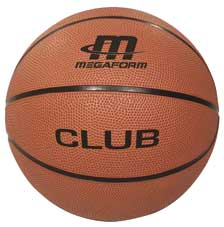basketball: (6, 7, 219, 221)
